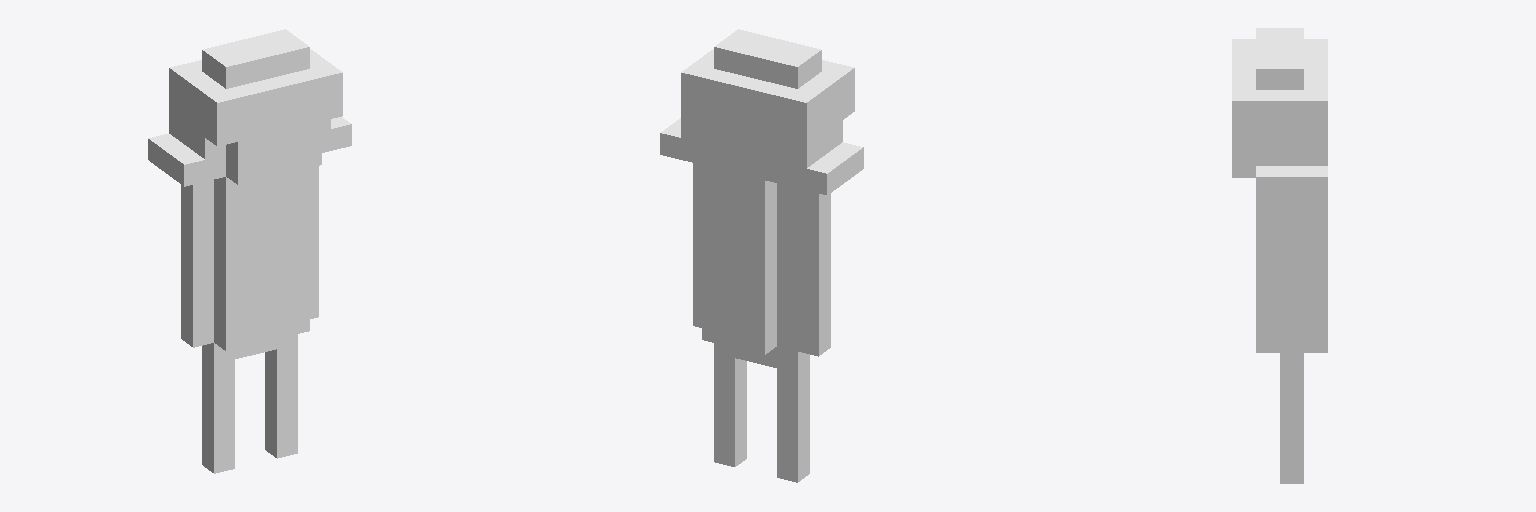
File: hippe.obj
3 views of the same model, side by side, from view 1: azimuth 30°, elevation 25°; view 2: azimuth 150°, elevation 25°; view 3: azimuth 270°, elevation 25° (orthographic).
Visible parts, largest first — view 1: hippe; view 2: hippe; view 3: hippe.
Boxes of the visible parts, <box> form: hippe: <box>148,29,351,473</box>; hippe: <box>660,29,863,482</box>; hippe: <box>1232,28,1327,483</box>.
Bounding box in the file's own units: 8 × 19 × 4.